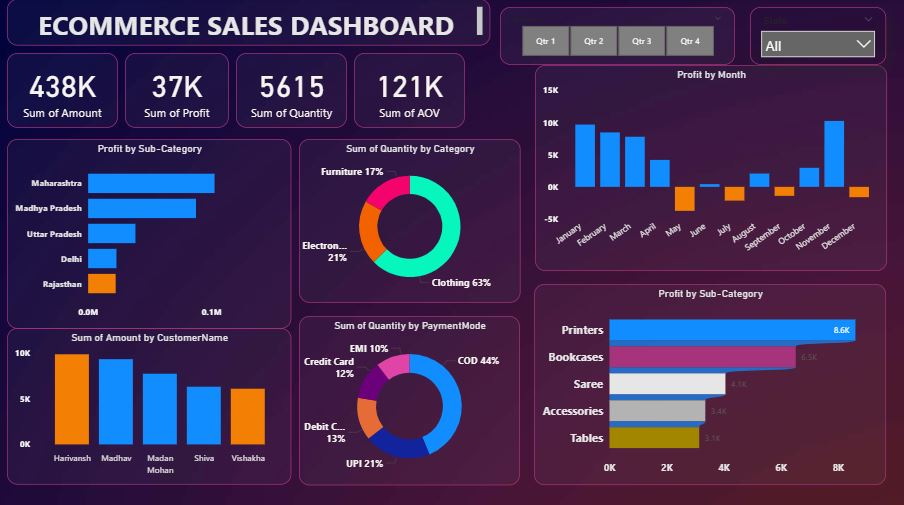

The dashboard page shown, as its layout file describes it:
{"tool":"powerbi","page":{"name":"DASHBOARD","canvas":[1280,720],"ordinal":0},"visuals":[{"type":"textbox","box":[10.1,0,685.4,65.5],"z":0},{"type":"columnChart","title":"Profit by Month","fields":{"Category":["Orders.Order Date.Variation.Date Hierarchy.Month"],"Y":["Details.Profit"]},"box":[757.6,94.1,498.9,292.3],"z":1},{"type":"barChart","title":"Profit by Sub-Category","fields":{"Category":["Details.Sub-Category"],"Y":["Details.Profit"]},"box":[756.9,403.9,498.9,284.9],"z":2},{"type":"donutChart","fields":{"Category":["Details.Category"],"Y":["Details.Quantity"]},"box":[423.3,198.2,314.1,231.8],"z":3},{"type":"donutChart","fields":{"Y":["Details.Quantity"],"Category":["Details.PaymentMode"]},"box":[423.8,449.3,313.2,239.5],"z":4},{"type":"card","fields":{"Values":["Details.Amount"]},"box":[9.9,76.5,157.3,106.3],"z":5},{"type":"card","fields":{"Values":["Details.Profit"]},"box":[177.2,76.5,147.4,106.3],"z":6},{"type":"card","fields":{"Values":["Details.Quantity"]},"box":[334.5,76.5,157.3,106.3],"z":7},{"type":"card","fields":{"Values":["Details.AOV"]},"box":[501.7,76.5,157.3,106.3],"z":8},{"type":"barChart","title":"Profit by Sub-Category","fields":{"Category":["Orders.State"],"Y":["Details.Amount"]},"box":[10.1,198.2,403.1,268.8],"z":9},{"type":"columnChart","fields":{"Category":["Orders.CustomerName"],"Y":["Details.Amount"]},"box":[10,467,403,222],"z":10},{"type":"slicer","fields":{"Values":["Orders.Order Date.Variation.Date Hierarchy.Quarter"]},"box":[708.9,11.8,332.6,82.3],"z":11},{"type":"slicer","fields":{"Values":["Orders.State"]},"box":[1063.3,11.8,193.2,82.3],"z":12}]}

Visuals, with their boxes in screenshot pixels (x1, y1, x2, y2), scaled from the page's 1280x720 canvas onto the 904x505 screenshot:
textbox: box=[7, 0, 491, 46]
"Profit by Month" columnChart: box=[535, 66, 887, 271]
"Profit by Sub-Category" barChart: box=[535, 283, 887, 483]
donutChart - Details.Category x Details.Quantity: box=[299, 139, 521, 302]
donutChart - Details.Quantity x Details.PaymentMode: box=[299, 315, 521, 483]
card - Details.Amount: box=[7, 54, 118, 128]
card - Details.Profit: box=[125, 54, 229, 128]
card - Details.Quantity: box=[236, 54, 347, 128]
card - Details.AOV: box=[354, 54, 465, 128]
"Profit by Sub-Category" barChart: box=[7, 139, 292, 328]
columnChart - Orders.CustomerName x Details.Amount: box=[7, 328, 292, 483]
slicer - Orders.Order Date.Variation.Date Hierarchy.Quarter: box=[501, 8, 736, 66]
slicer - Orders.State: box=[751, 8, 887, 66]
